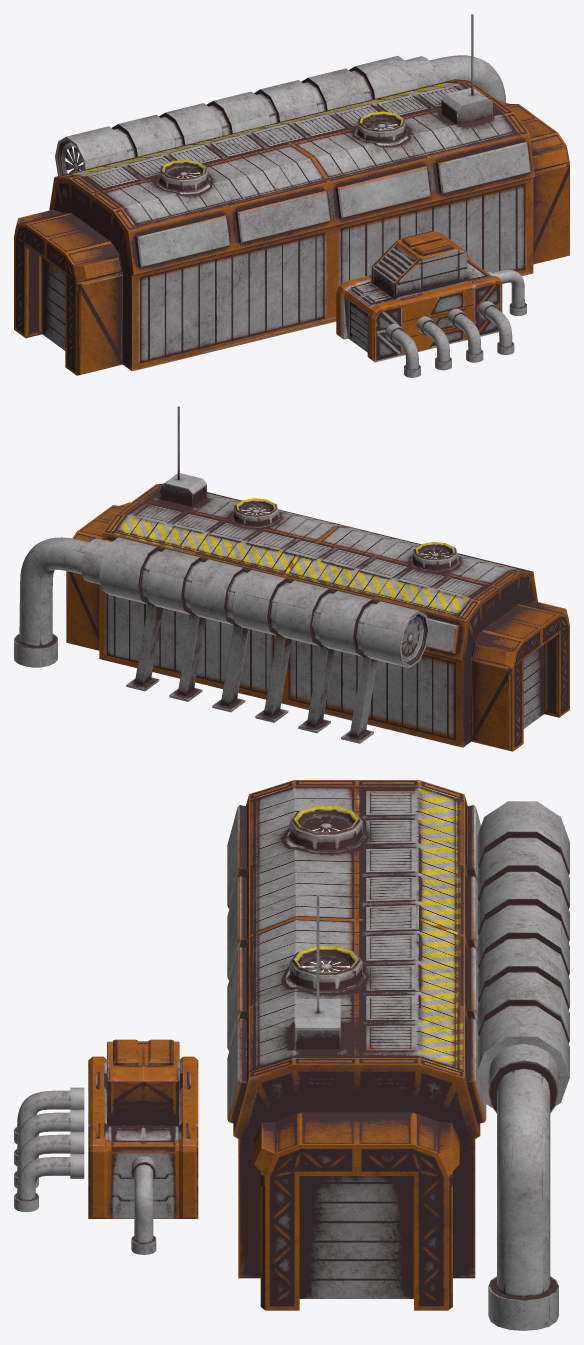
Rendered from vehicle_factory.glb.
The picture shows the model from 3 angles, top to bottom: view 1: azimuth 30°, elevation 25°; view 2: azimuth 150°, elevation 25°; view 3: azimuth 270°, elevation 25°; orthographic projection. The views are drawn at different scales.
Parts seen in each view (by area): view 1: Cube.003, Cube.002, Cylinder.006, Plane.003, Plane.005, Plane.004; view 2: Cube.003, Cylinder.006, Plane.005, Cylinder.007; view 3: Cube.003, Cylinder.006, Cube.002, Plane.005, Plane.003, Plane.004.
Boxes of the visible parts, x1,y1,x2,y2 form: Cube.003: (14, 14, 569, 375); Cube.002: (336, 231, 502, 362); Cylinder.006: (55, 56, 417, 175); Plane.003: (385, 301, 514, 377); Plane.005: (405, 55, 505, 102); Plane.004: (486, 270, 526, 315); Cube.003: (66, 406, 569, 751); Cylinder.006: (99, 537, 428, 743); Plane.005: (14, 537, 111, 667); Cylinder.007: (401, 620, 419, 656); Cube.003: (227, 780, 486, 1310); Cylinder.006: (476, 801, 569, 1107); Cube.002: (88, 1039, 198, 1218); Plane.005: (488, 1043, 558, 1330); Plane.003: (14, 1087, 84, 1212); Plane.004: (131, 1156, 156, 1254).
Size of the model in its own units: 9.57 by 4.39 by 6.08.
Materials: 1 (1 with a texture image).
